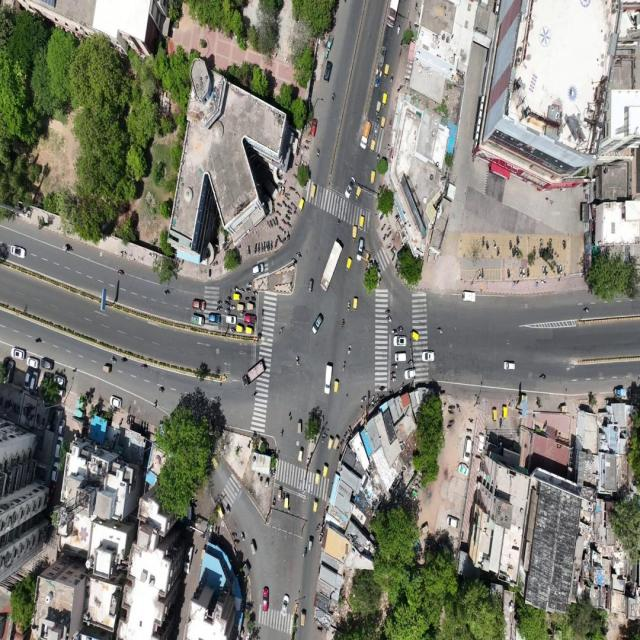3W: (309, 180, 319, 200), (308, 531, 315, 557), (344, 256, 353, 276), (299, 608, 308, 628), (409, 329, 421, 342), (369, 170, 378, 187), (312, 497, 320, 515), (297, 444, 304, 464), (334, 432, 341, 452), (382, 92, 390, 109), (358, 214, 366, 231), (351, 297, 360, 312), (285, 493, 292, 512), (384, 61, 390, 83), (327, 431, 333, 452), (101, 363, 112, 374), (250, 539, 258, 554), (322, 463, 329, 480), (296, 417, 303, 433), (373, 100, 380, 116), (369, 139, 376, 153), (502, 404, 508, 420), (217, 505, 223, 521), (356, 184, 362, 200), (492, 408, 498, 423), (276, 485, 282, 500), (245, 325, 254, 335), (352, 225, 357, 243), (314, 470, 320, 484), (334, 378, 339, 394), (236, 324, 244, 334), (381, 118, 386, 134), (298, 198, 304, 211), (233, 293, 242, 301), (237, 302, 245, 311), (247, 304, 255, 311)
Cars: (322, 60, 340, 86), (260, 586, 273, 614), (310, 310, 323, 338), (10, 242, 29, 261), (47, 460, 61, 484), (323, 361, 332, 398), (53, 435, 66, 459), (357, 238, 367, 269), (8, 346, 26, 362), (281, 588, 290, 619), (344, 174, 354, 200), (446, 514, 460, 532), (310, 115, 321, 137), (459, 290, 476, 304), (463, 436, 472, 462), (304, 273, 315, 294), (421, 349, 436, 364), (110, 394, 124, 410), (503, 359, 517, 373), (26, 355, 40, 369), (208, 311, 222, 325), (190, 313, 204, 327), (41, 357, 56, 370), (53, 373, 66, 387), (56, 418, 68, 433), (251, 262, 266, 274), (193, 298, 206, 311), (31, 371, 39, 392), (404, 368, 416, 381), (392, 336, 407, 346), (394, 352, 407, 362), (225, 314, 237, 324), (245, 314, 257, 324), (23, 372, 30, 389)
M2W: (63, 241, 72, 256), (346, 342, 354, 358), (34, 332, 43, 346), (114, 266, 124, 278), (539, 369, 547, 383), (120, 354, 129, 365), (294, 355, 301, 367), (287, 408, 293, 422), (152, 398, 159, 410), (485, 238, 490, 254), (140, 362, 148, 372), (331, 90, 336, 105), (562, 238, 568, 250), (582, 305, 590, 314), (279, 426, 285, 438), (279, 324, 285, 336), (240, 528, 245, 542), (342, 361, 347, 374), (338, 213, 343, 226), (109, 355, 116, 364), (506, 268, 511, 280), (457, 403, 462, 415), (341, 318, 346, 330), (303, 544, 307, 559), (226, 504, 232, 514), (164, 286, 170, 296), (373, 126, 378, 138), (390, 253, 396, 263), (436, 326, 443, 334), (274, 237, 278, 251), (390, 70, 394, 84), (397, 24, 401, 38), (538, 238, 544, 247), (252, 390, 258, 399), (282, 199, 288, 208), (375, 115, 381, 124), (346, 300, 350, 313), (253, 242, 257, 255), (381, 220, 386, 230), (448, 410, 455, 417), (397, 325, 404, 332), (492, 239, 496, 251), (541, 266, 545, 278), (468, 416, 474, 424), (322, 430, 325, 446), (158, 386, 166, 392), (296, 250, 302, 258), (316, 148, 320, 160), (376, 153, 380, 165), (519, 266, 522, 281), (282, 489, 285, 504), (556, 264, 560, 275), (448, 403, 455, 409), (448, 417, 454, 424), (522, 266, 525, 280), (386, 307, 392, 314), (233, 539, 240, 545), (243, 295, 250, 301), (287, 209, 293, 216), (305, 138, 312, 144), (304, 146, 310, 153), (508, 239, 512, 249), (291, 258, 296, 266), (266, 221, 270, 231), (382, 232, 386, 242), (247, 243, 250, 256), (516, 235, 520, 244), (560, 265, 564, 274), (386, 316, 392, 322), (391, 362, 397, 368), (247, 282, 253, 288), (232, 285, 238, 291), (224, 307, 230, 313), (230, 304, 236, 310), (265, 240, 268, 252), (286, 231, 290, 240), (276, 201, 282, 207), (289, 185, 295, 191), (282, 217, 286, 226), (291, 202, 297, 208), (447, 424, 454, 429), (252, 290, 259, 295), (293, 172, 298, 179), (526, 267, 529, 278), (545, 266, 548, 277), (499, 418, 502, 429), (390, 378, 398, 382), (316, 522, 320, 530), (478, 269, 481, 279), (391, 329, 396, 335), (409, 360, 414, 366), (239, 288, 245, 293), (245, 288, 251, 293), (216, 306, 222, 311), (240, 311, 246, 316), (250, 296, 256, 301), (270, 241, 273, 251), (273, 218, 276, 228), (275, 211, 281, 216), (387, 242, 392, 248), (387, 226, 392, 232), (216, 300, 223, 304), (279, 225, 283, 232), (296, 191, 300, 198), (496, 247, 499, 256), (482, 235, 484, 248), (467, 428, 472, 433), (482, 268, 484, 280), (548, 238, 552, 244), (389, 372, 397, 375), (224, 300, 228, 306), (258, 243, 260, 255), (284, 193, 290, 197), (294, 163, 300, 167), (512, 248, 514, 258), (261, 243, 263, 253)
Truck: (318, 231, 344, 294), (236, 358, 272, 388), (359, 115, 372, 153)
